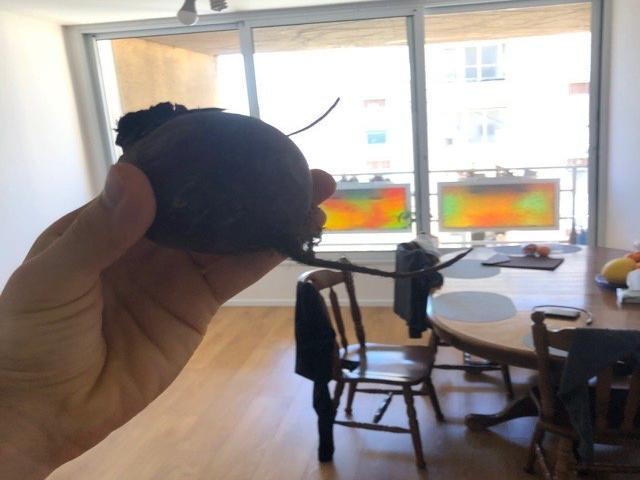beet: (116, 100, 473, 277)
